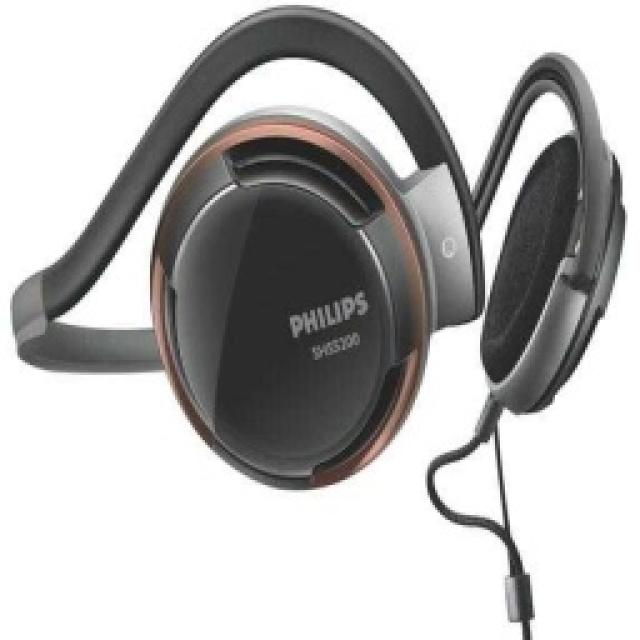headphones: (7, 0, 624, 492)
